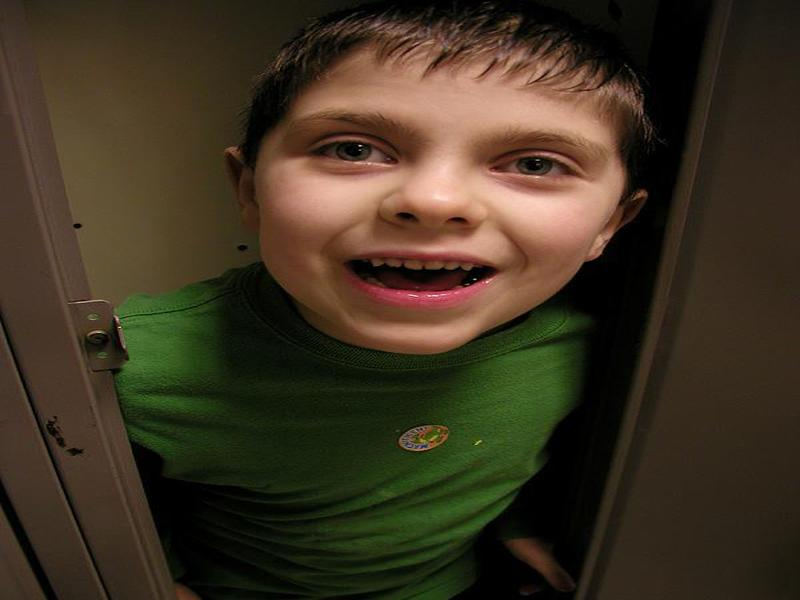person: (99, 17, 652, 600)
